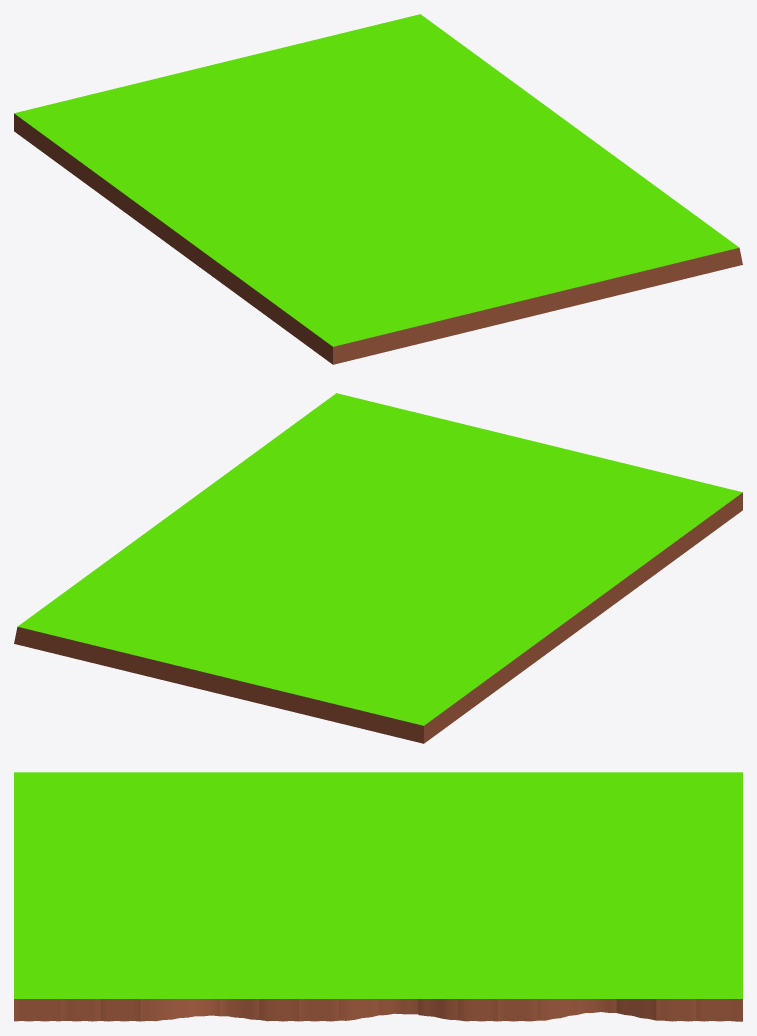
File: eath.fbx
3 renders of one model, top to bottom at view 1: azimuth 30°, elevation 25°; view 2: azimuth 150°, elevation 25°; view 3: azimuth 270°, elevation 25°, orthographic. The views are drawn at different scales.
Visible parts, largest first — view 1: pCube2; view 2: pCube2; view 3: pCube2.
Part boxes in pixels (<box>): pCube2: <box>14,14,742,364</box>; pCube2: <box>14,393,742,743</box>; pCube2: <box>14,772,742,1021</box>.
Size of the model in its own units: 2050 by 85.96 by 2764.
1 material, 1 textured.
